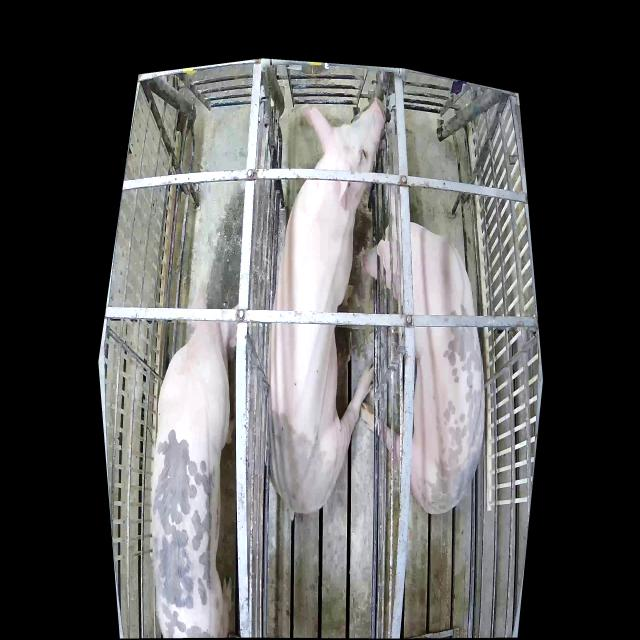pig: (268, 95, 386, 516), (361, 221, 485, 516), (150, 296, 239, 637)
